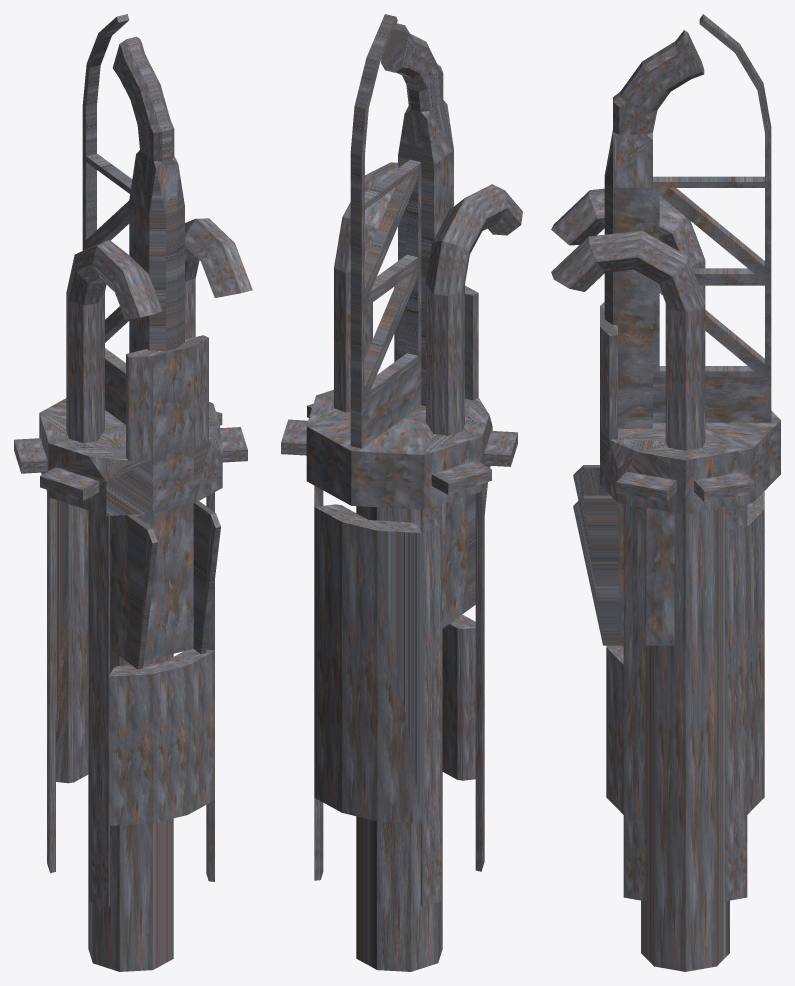
File: bazooka884_wtf.obj
3 views of the same model, side by side, from view 1: azimuth 30°, elevation 25°; view 2: azimuth 150°, elevation 25°; view 3: azimuth 270°, elevation 25° (orthographic).
Parts seen in each view (by area): view 1: group2; view 2: group2; view 3: group2.
Part boxes in pixels (x1=…): group2: x1=14, y1=14, x2=252, y2=971; group2: x1=281, y1=14, x2=522, y2=971; group2: x1=551, y1=14, x2=780, y2=971.
Size of the model in its own units: 149 by 660 by 147.
